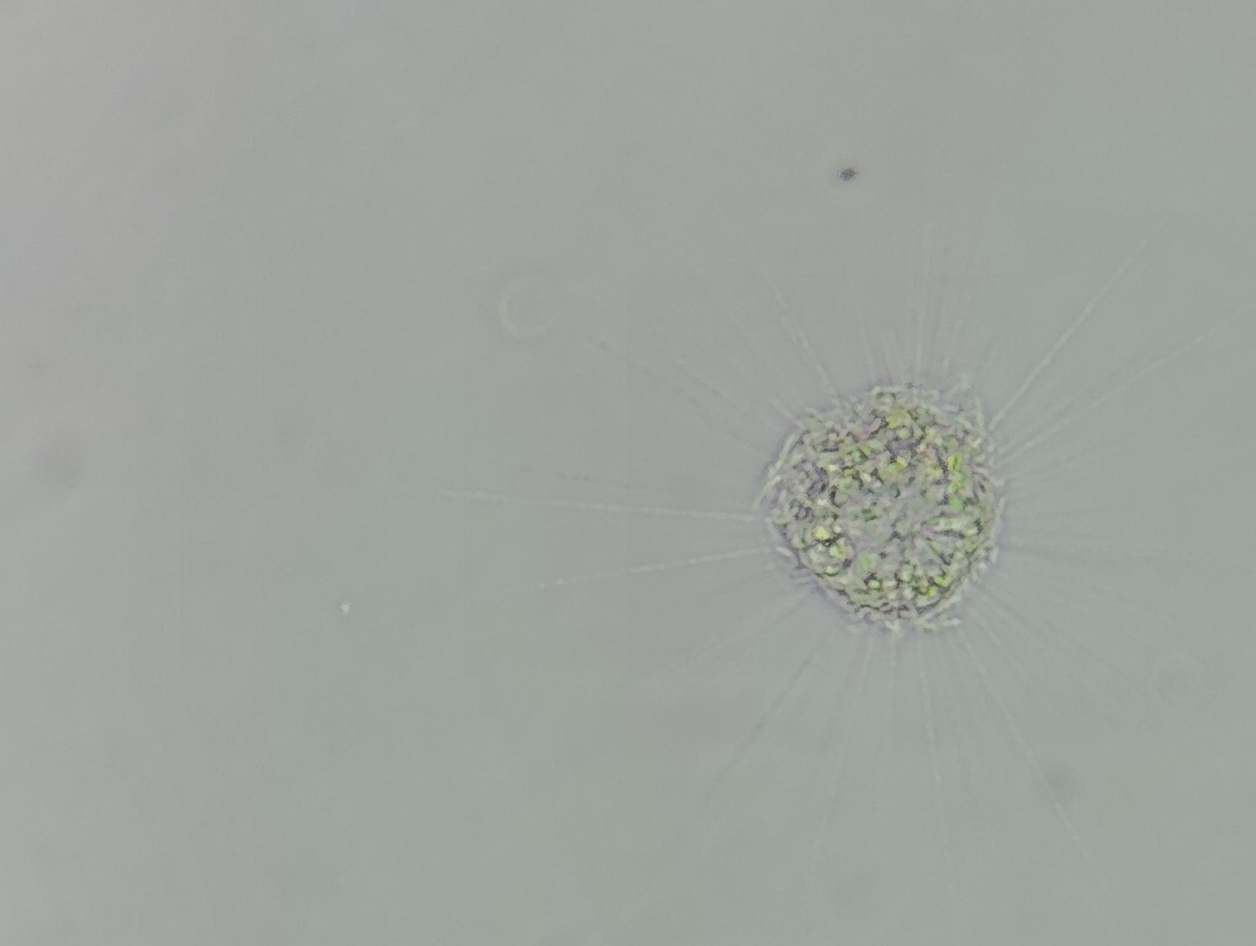Chlorella: (464, 175, 1256, 869)
